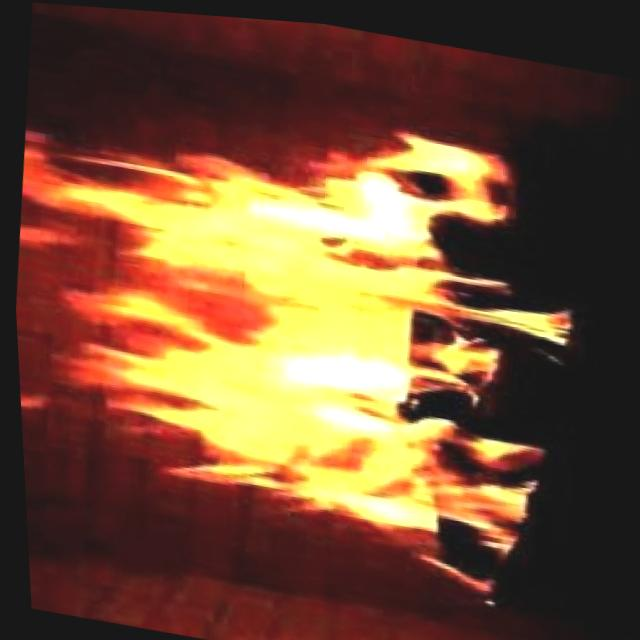Fire: (2, 53, 611, 601)
